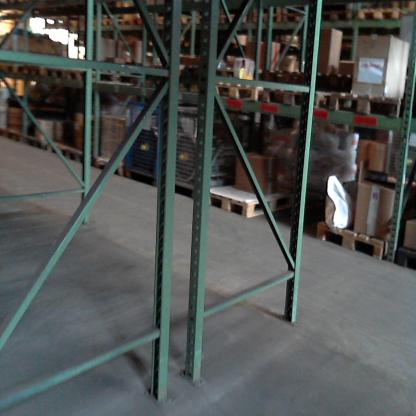pallet: (312, 216, 409, 268), (203, 188, 312, 224), (328, 90, 416, 124), (261, 79, 333, 120), (200, 75, 261, 112), (260, 64, 350, 82), (355, 3, 404, 31), (150, 10, 208, 31), (46, 139, 85, 165), (311, 9, 351, 34), (93, 71, 142, 90), (246, 8, 279, 35), (86, 152, 124, 175), (199, 64, 242, 82), (214, 12, 247, 34), (65, 63, 94, 87), (44, 61, 71, 85), (1, 57, 23, 83), (280, 12, 309, 31), (22, 60, 48, 80), (3, 126, 26, 148), (124, 11, 148, 32), (21, 131, 46, 151), (104, 14, 128, 31)
stillage: (167, 95, 262, 204), (119, 95, 180, 189)
